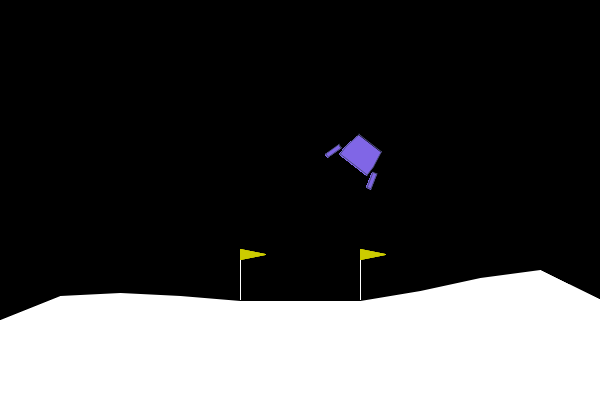lander: (323, 124, 395, 192)
